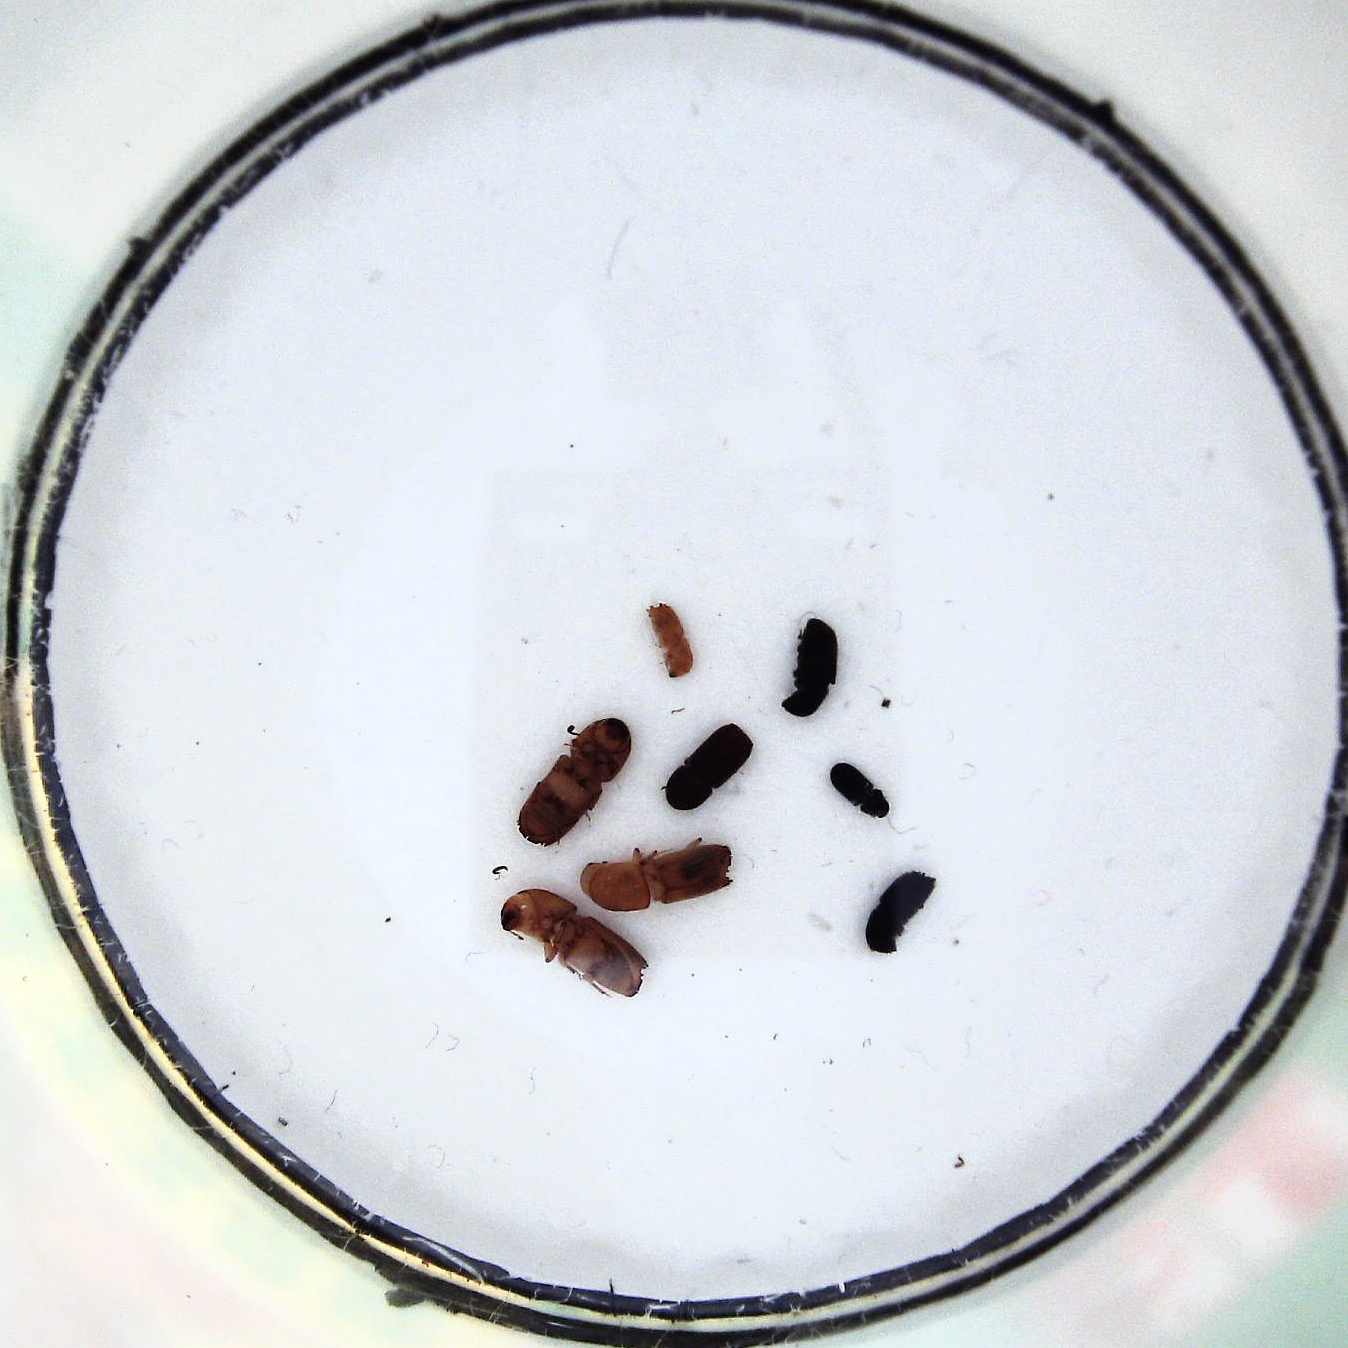Boerner: (497, 892, 649, 1004), (515, 715, 632, 847), (578, 839, 736, 911)
Linnaeus: (663, 722, 754, 815), (863, 869, 937, 958)
acuminatus: (647, 602, 695, 679)
armandi: (776, 618, 843, 720)
coleoptera: (830, 763, 892, 818)
